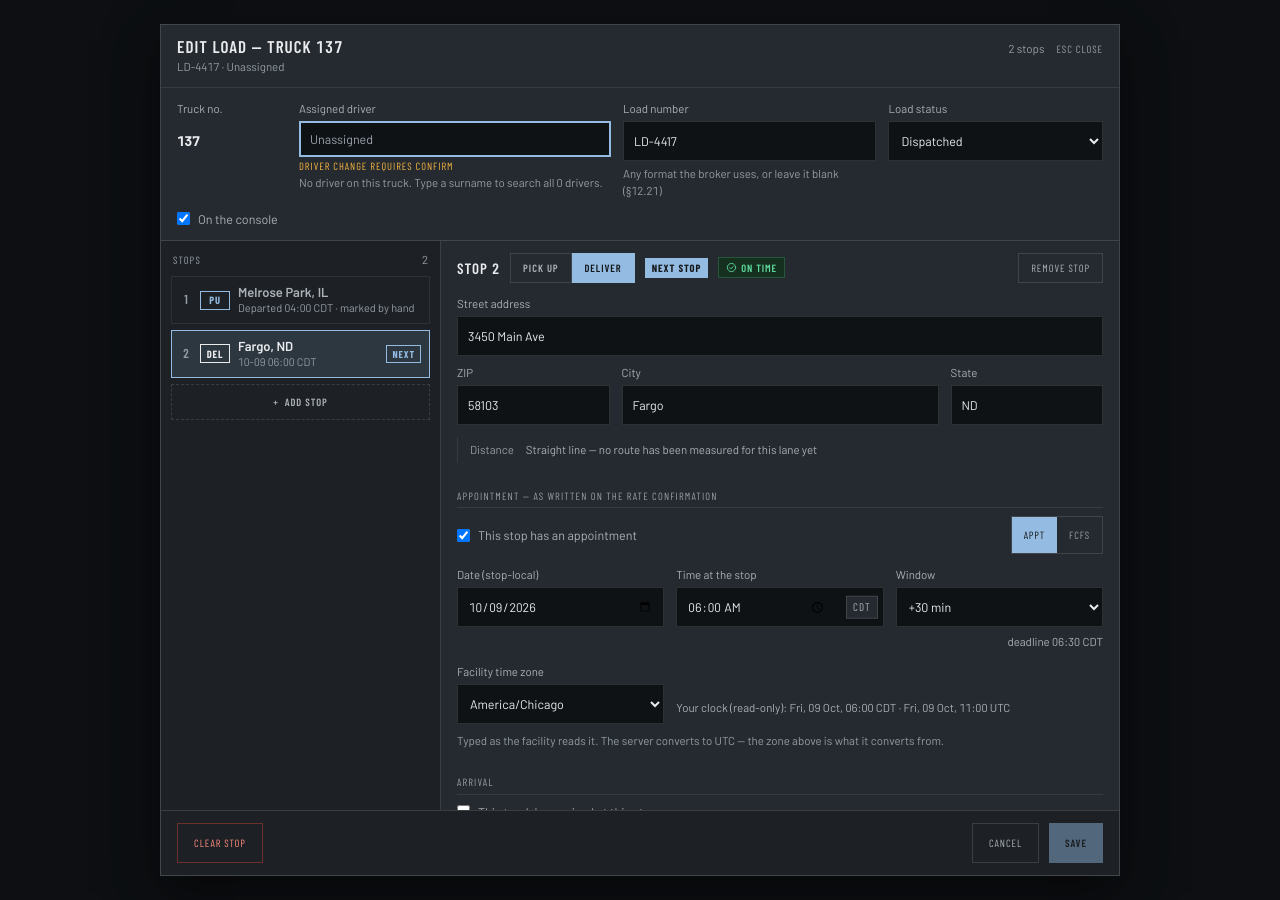
it: a stop the truck has left (§12.116 D4) › keeps its address, type and appointment, and takes a note
Click the tab "1 PU Melrose Park, IL Departed 04:00 CDT · marked by hand": x=300, y=300 [171,276,430,324]
(page scrolled)
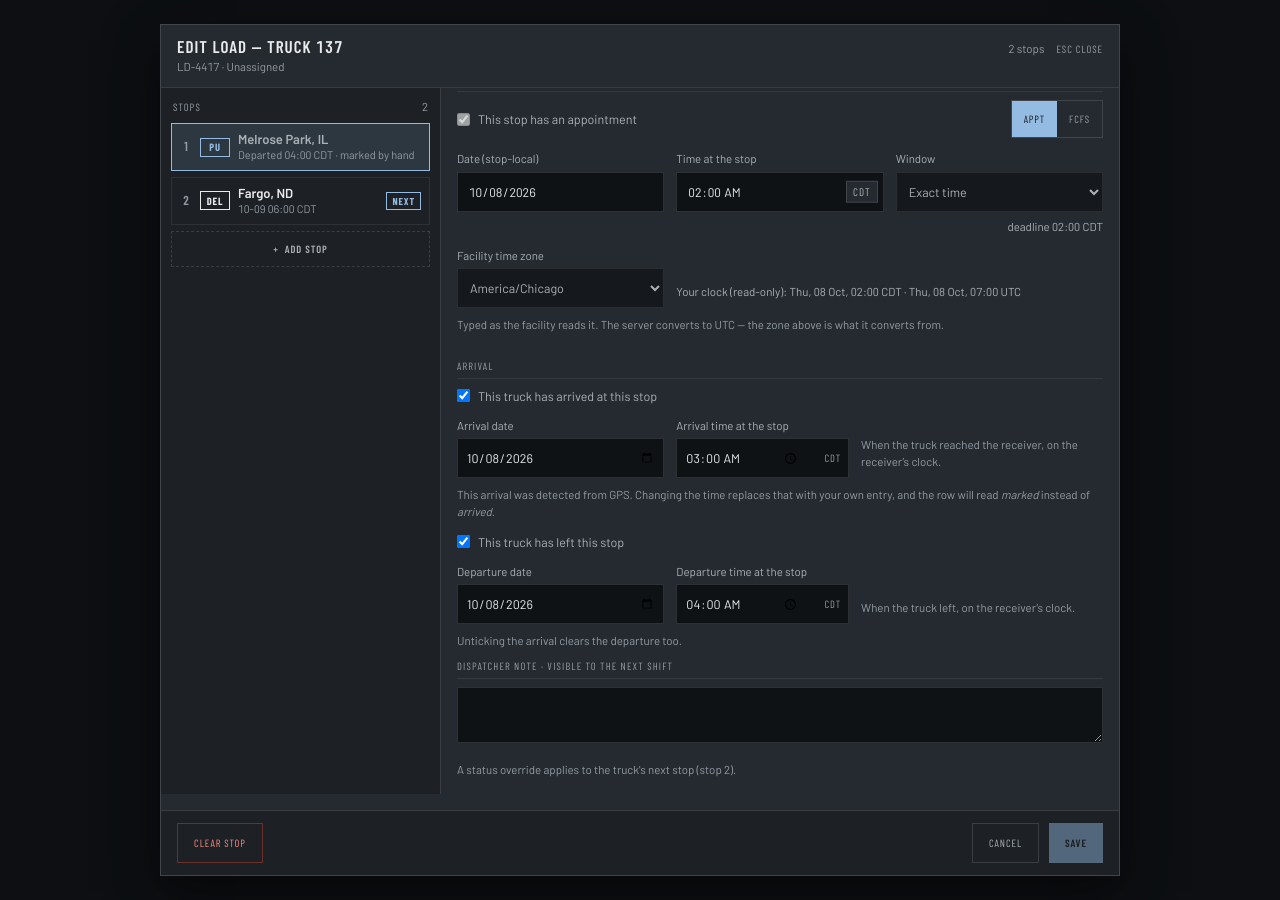
Expected: the element showing "Dispatcher note · visible to the next shift" is enabled, [457,661,1103,749]
